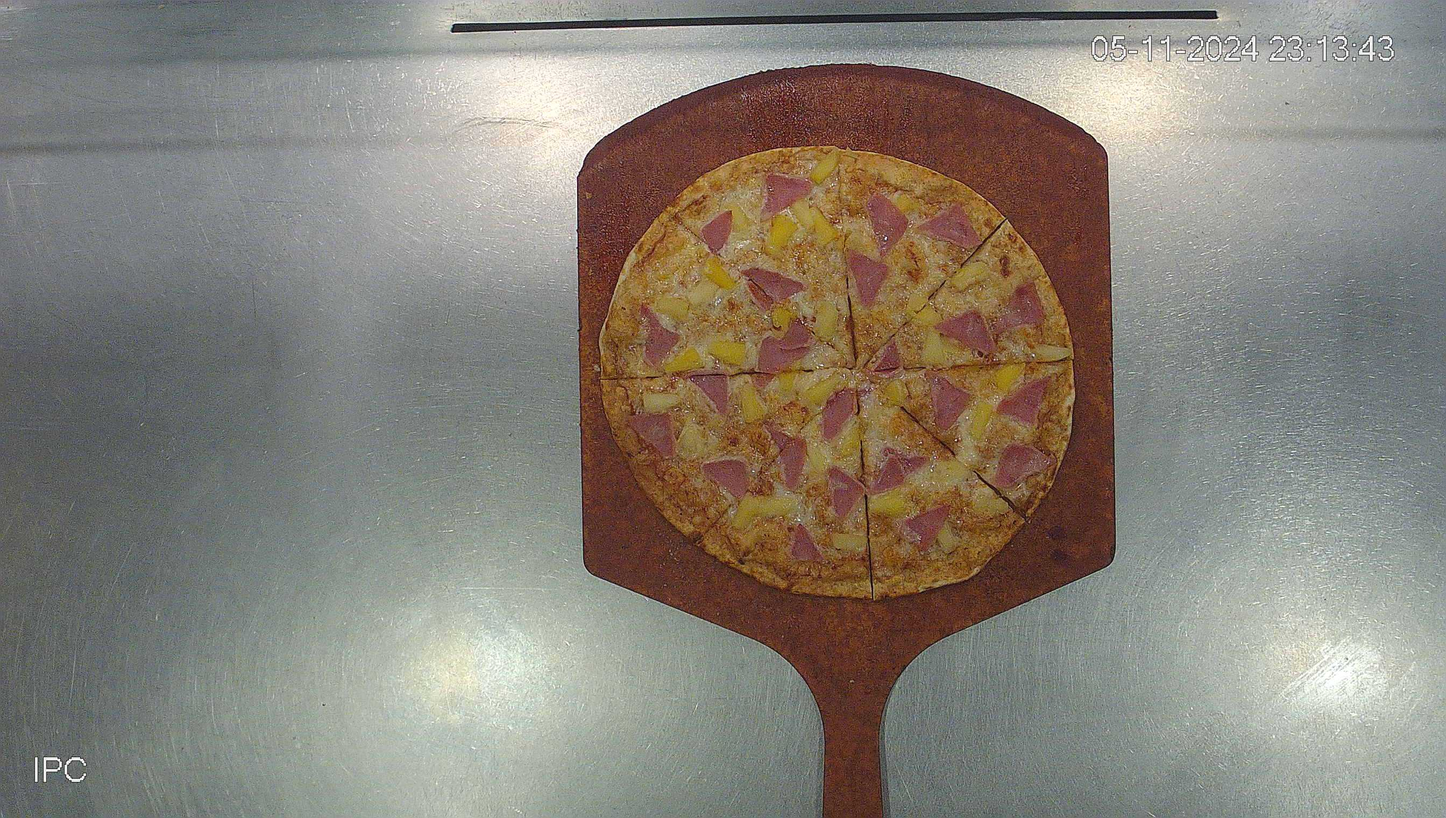manager_choice: (596, 144, 1076, 602)
